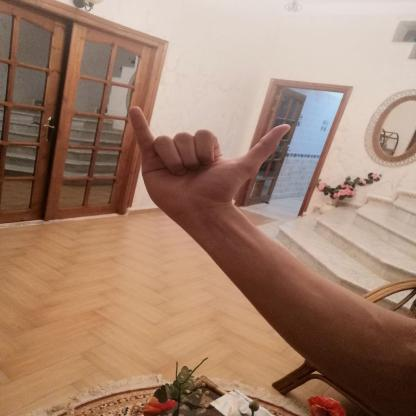YA: (112, 95, 306, 221)
